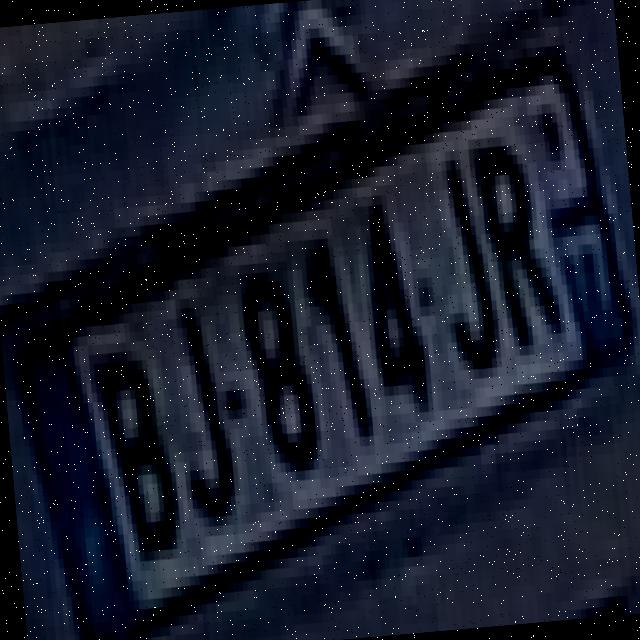Autre: (20, 44, 630, 640)
